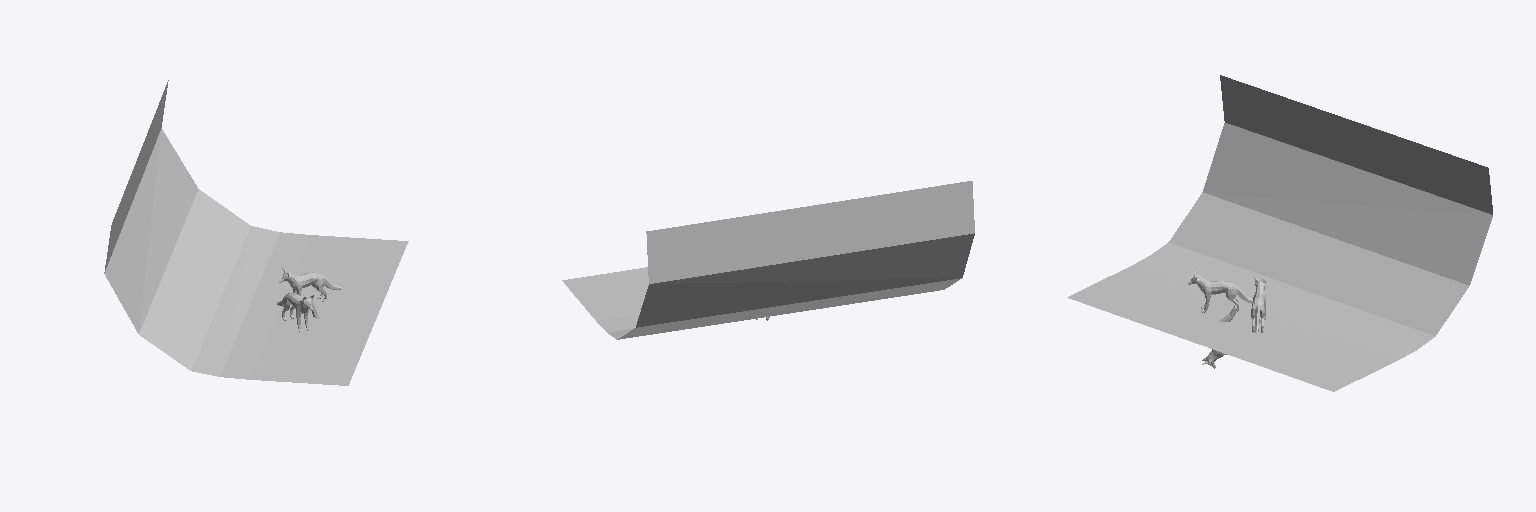
File: Fox3.obj
3 views of the same model, side by side, from view 1: azimuth 30°, elevation 25°; view 2: azimuth 150°, elevation 25°; view 3: azimuth 270°, elevation 25° (orthographic).
Parts seen in each view (by area): view 1: Plane, Cylinder.001, Cylinder; view 2: Plane; view 3: Plane, Cylinder, Cylinder.001.
Boxes of the visible parts, x1,y1,x2,y2 form: Plane: [104, 80, 408, 385]; Cylinder.001: [279, 267, 341, 304]; Cylinder: [277, 293, 313, 331]; Plane: [562, 181, 974, 339]; Plane: [1067, 75, 1492, 391]; Cylinder: [1188, 270, 1252, 312]; Cylinder.001: [1251, 276, 1266, 333].
Size of the model in its own units: 51.22 by 26.37 by 52.78.